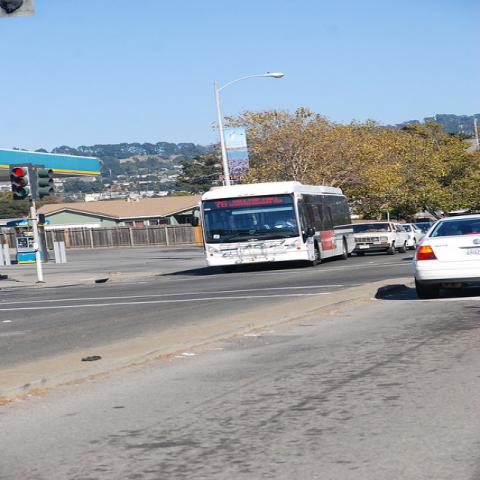bus: (192, 181, 358, 273)
car: (410, 213, 480, 301), (401, 223, 427, 250), (413, 222, 434, 232)
truck: (353, 222, 409, 256)
